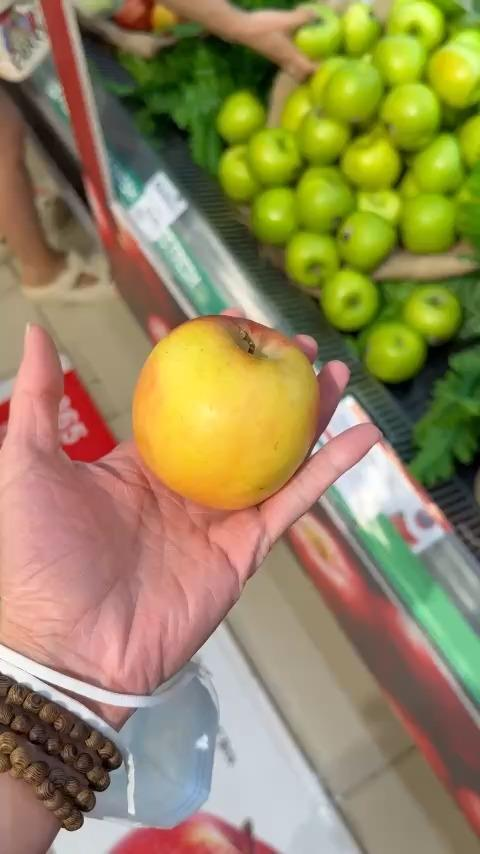apple: (128, 305, 325, 516)
